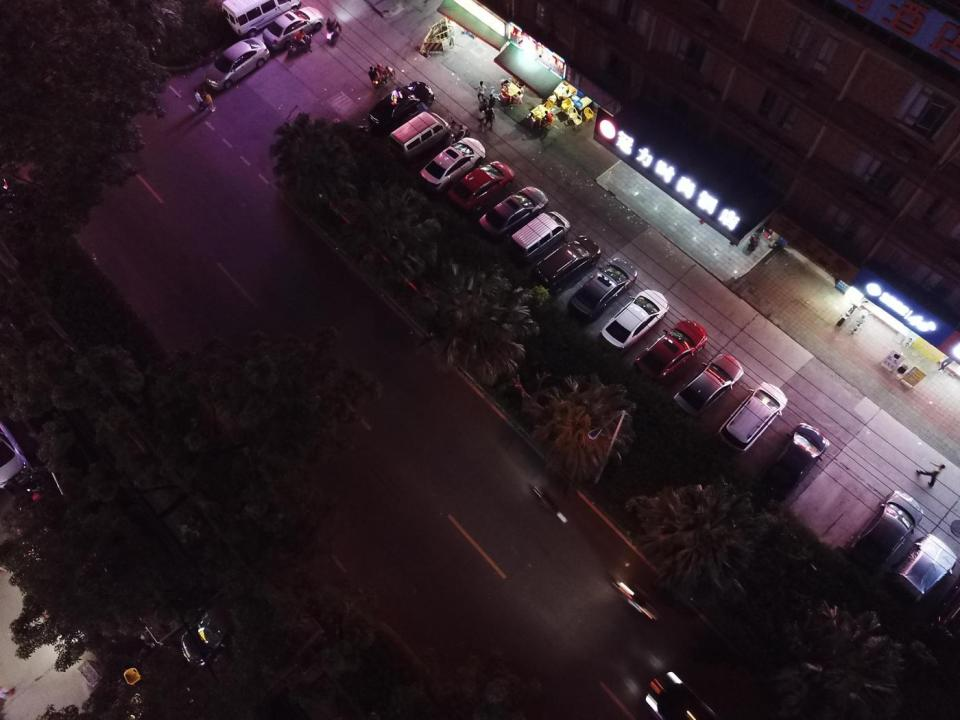car: (834, 490, 924, 587), (873, 534, 957, 618), (753, 420, 831, 508), (178, 592, 257, 669), (719, 382, 788, 456), (673, 352, 744, 418), (598, 288, 670, 352), (635, 319, 708, 382), (567, 258, 638, 322), (639, 670, 722, 720), (418, 137, 486, 195), (200, 38, 272, 92), (479, 186, 548, 242), (446, 160, 515, 214), (368, 81, 436, 132), (263, 7, 323, 49)
van: (530, 234, 602, 294), (216, 0, 301, 38), (511, 210, 571, 262), (388, 112, 451, 161)
